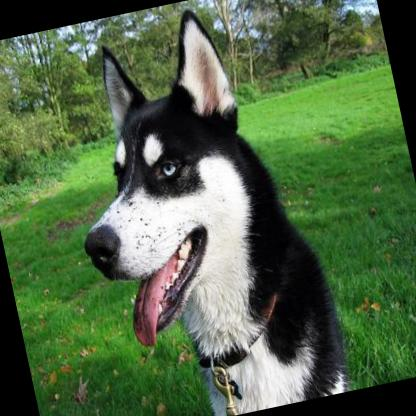Eskimo_dog: (38, 0, 353, 416)
